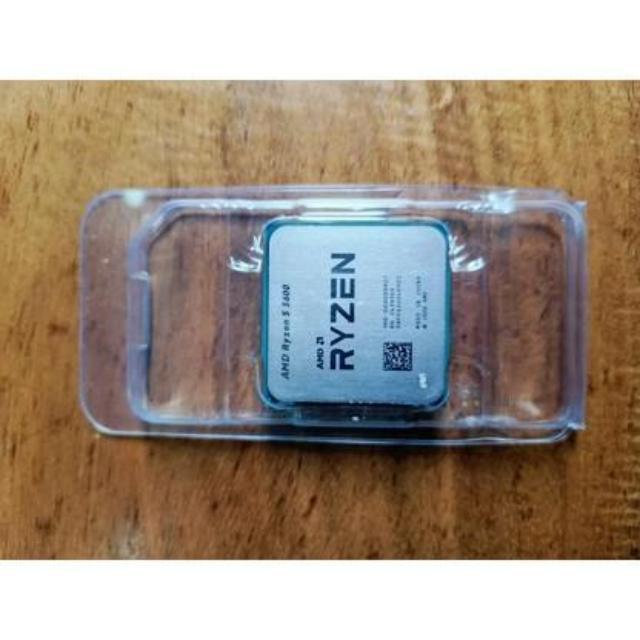CPU: (264, 225, 448, 410)
